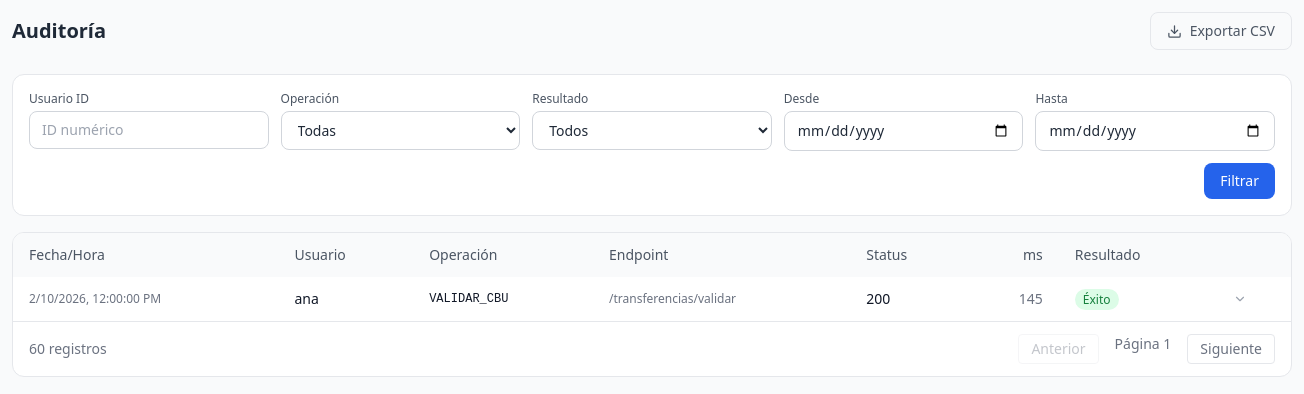
it: AuditoriaPage › deshabilita 'Siguiente' en la última página
The width and height of the screenshot is (1304, 394).
Expected: the text "/transferencias/validar" is shown, [593, 277, 850, 321]
Click the button "Siguiente".
click(1231, 349)  # box [1187, 334, 1275, 364]
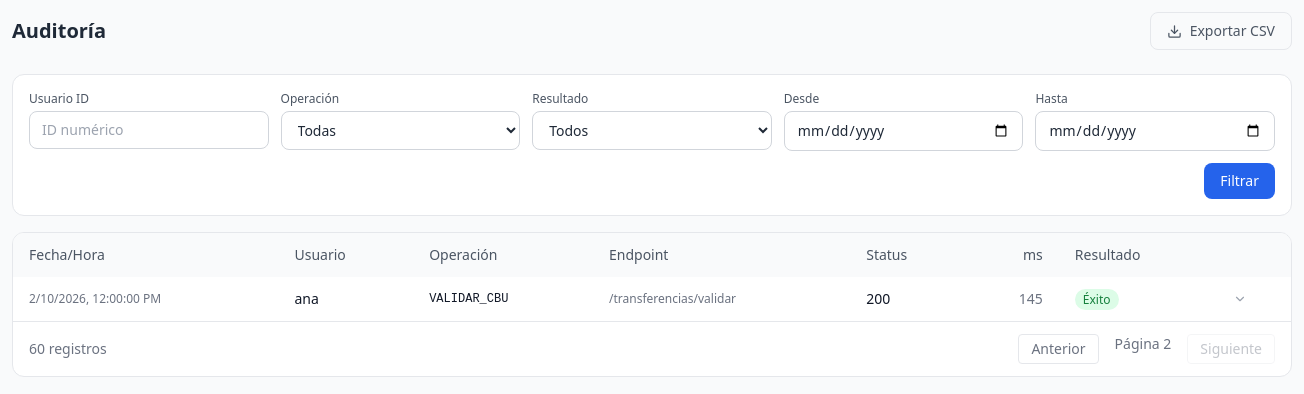
Now the button "Siguiente" is disabled, box [1187, 334, 1275, 364]
